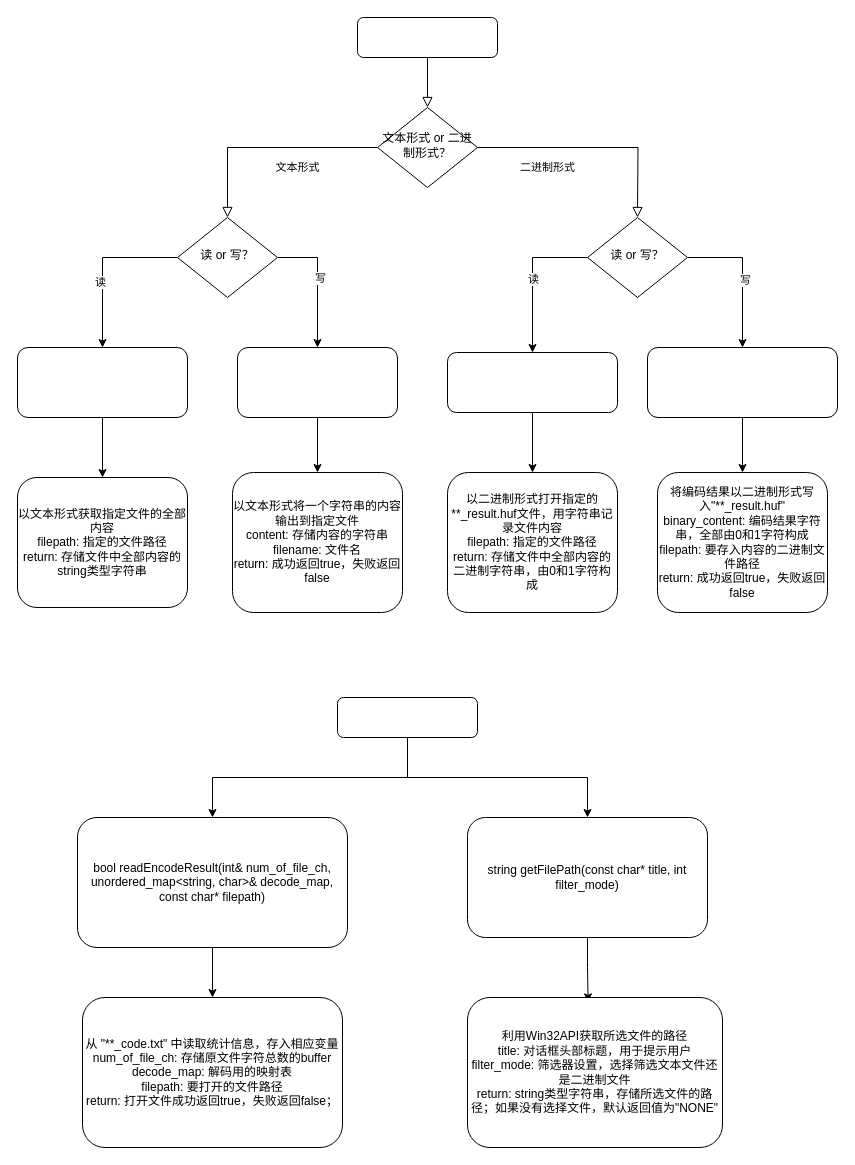
The diagram is 855 pixels wide and 1165 high, and some of its shapes have lost their labels. The centre of each missing label's shape, as x and y in pixels:
"bool writeBinaryContent(std::string binary_content, const char* filepath)" belongs at point 742,382.
"bool writeTextContent(string content, const char* filename)" belongs at point 317,382.
"file-process中的基本函数" belongs at point 427,37.
"file-process中的特殊函数" belongs at point 407,717.
"string readBinaryContent(const char* filepath)" belongs at point 532,382.
"string readTextContent(const char* filepath)" belongs at point 102,382.
